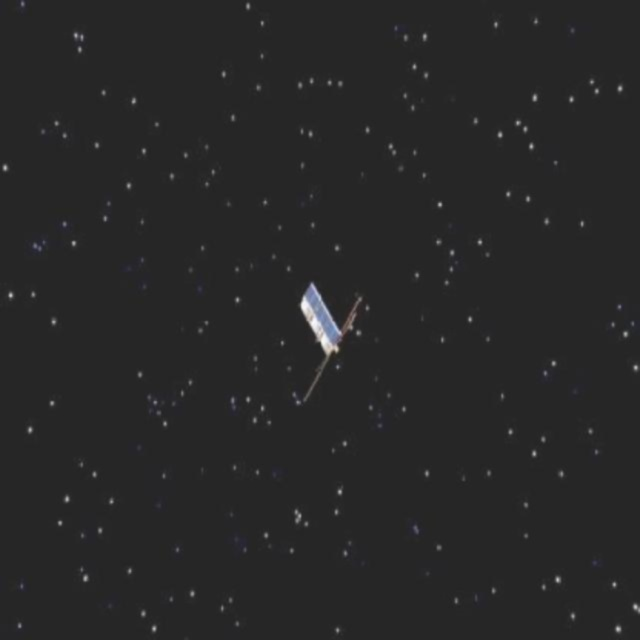medium_debris: (288, 277, 377, 410)
